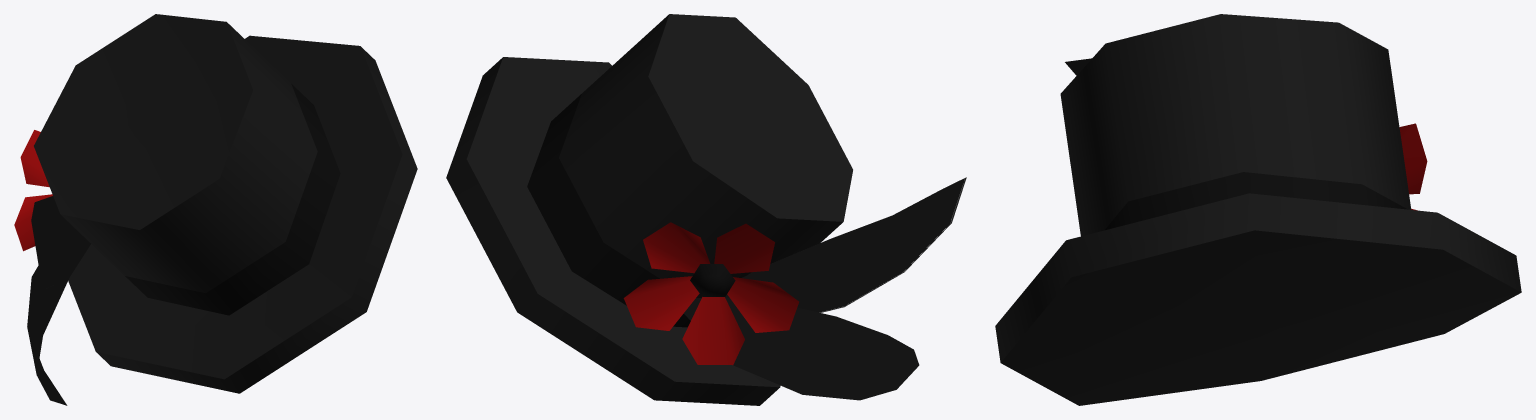
The model's file is hat_tophatTiny.glb.
3 renders of one model, left to right at view 1: azimuth 30°, elevation 25°; view 2: azimuth 150°, elevation 25°; view 3: azimuth 270°, elevation 25°, orthographic. The views are drawn at different scales.
Parts seen in each view (by area): view 1: hat_tophatTiny; view 2: hat_tophatTiny; view 3: hat_tophatTiny.
Boxes of the visible parts, left/top/right/bottom form: hat_tophatTiny: left=14, top=14, right=417, bottom=405; hat_tophatTiny: left=446, top=14, right=966, bottom=405; hat_tophatTiny: left=995, top=14, right=1521, bottom=405.
Size of the model in its own units: 0.2013 by 0.1675 by 0.1856.
